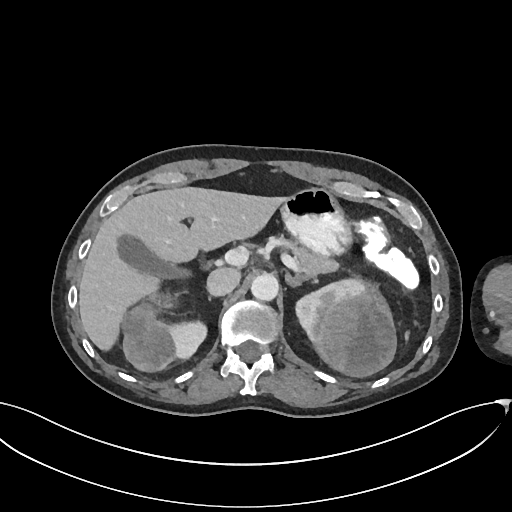Lesion: (122, 301, 177, 372)
